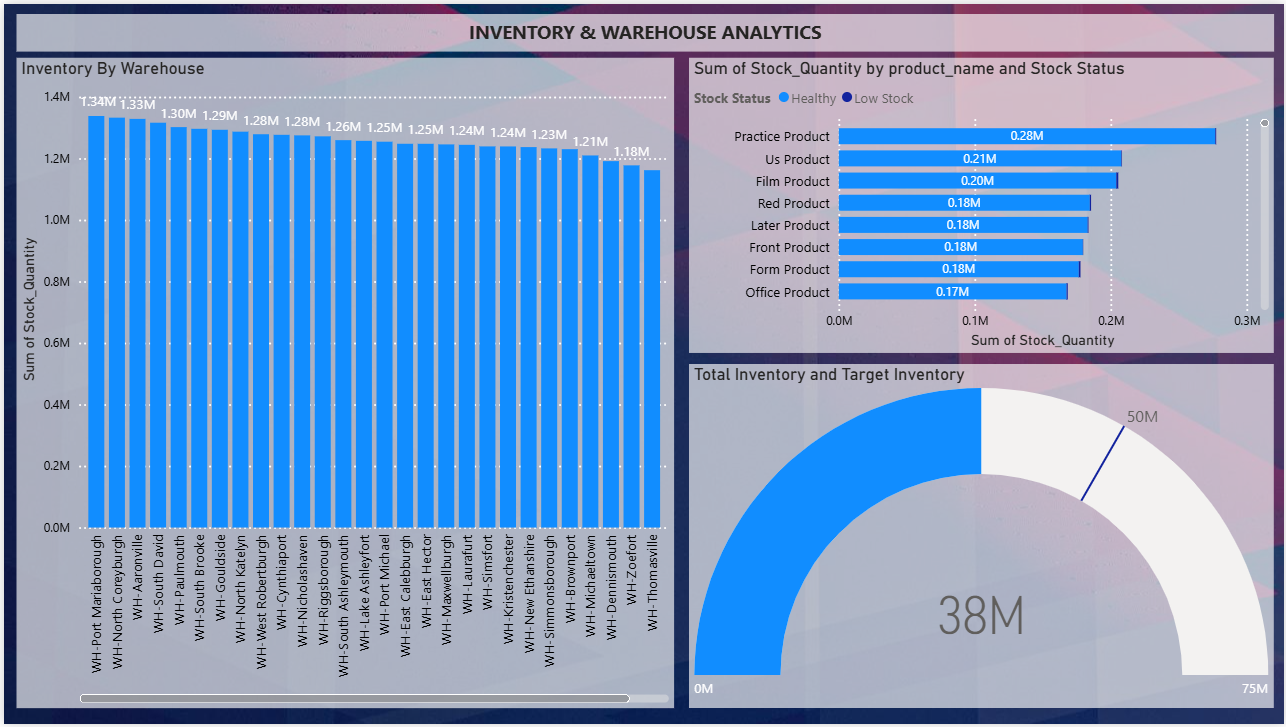

Layout of this report page (visuals, bound fields, positions):
{"tool":"powerbi","page":{"name":"INVENTORY ANALYTICS","canvas":[1280,720],"ordinal":1},"visuals":[{"type":"clusteredColumnChart","title":"Inventory By Warehouse","fields":{"Category":["Warehouses.Warehouse_Name"],"Y":["Sum(Inventory.Stock_Quantity)"]},"box":[0,47.5,660,636.2],"z":0},{"type":"barChart","fields":{"Category":["Products.product_name"],"Y":["Sum(Inventory.Stock_Quantity)"],"Series":["Inventory.Stock Status"]},"box":[685,53.8,562.5,295],"z":1000},{"type":"gauge","fields":{"Y":["Inventory.Total Inventory"],"TargetValue":["Inventory.Target Inventory"]},"box":[685,366.2,562.5,317.5],"z":2000},{"type":"textbox","box":[0,10,1280,37.5],"z":3000}]}

Visuals, with their boxes in screenshot pixels (x1, y1, x2, y2), scaled from the page's 1280x720 canvas onto the 1286x727 screenshot:
"Inventory By Warehouse" clusteredColumnChart: x1=0 y1=48 x2=663 y2=690
barChart - Products.product_name x Sum(Inventory.Stock_Quantity): x1=688 y1=54 x2=1253 y2=352
gauge - Inventory.Total Inventory x Inventory.Target Inventory: x1=688 y1=370 x2=1253 y2=690
textbox: x1=0 y1=10 x2=1285 y2=48
